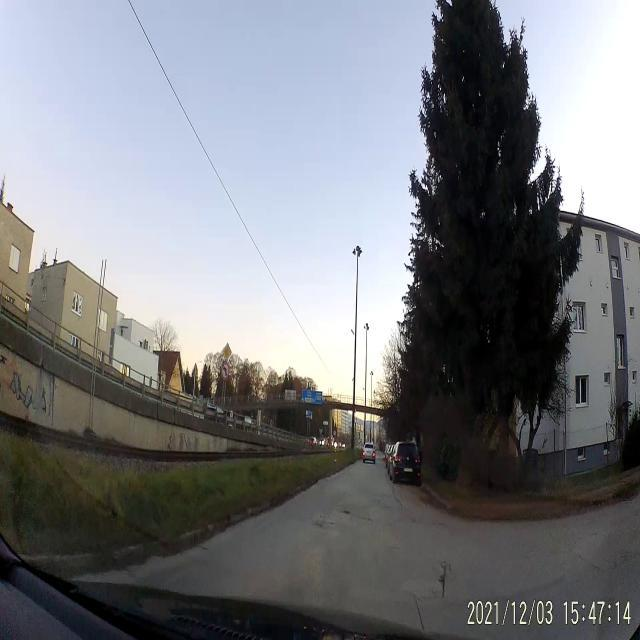Pothole: (439, 561, 446, 600), (312, 518, 325, 530), (342, 508, 354, 518)
